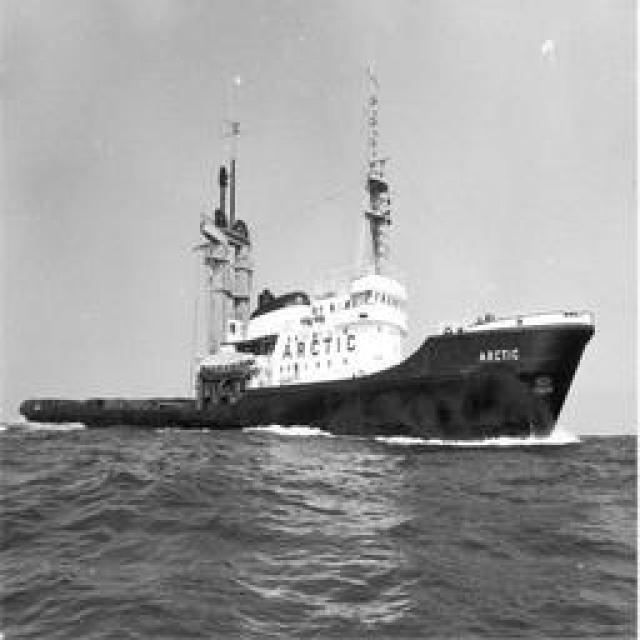Ship: (25, 307, 600, 447)
